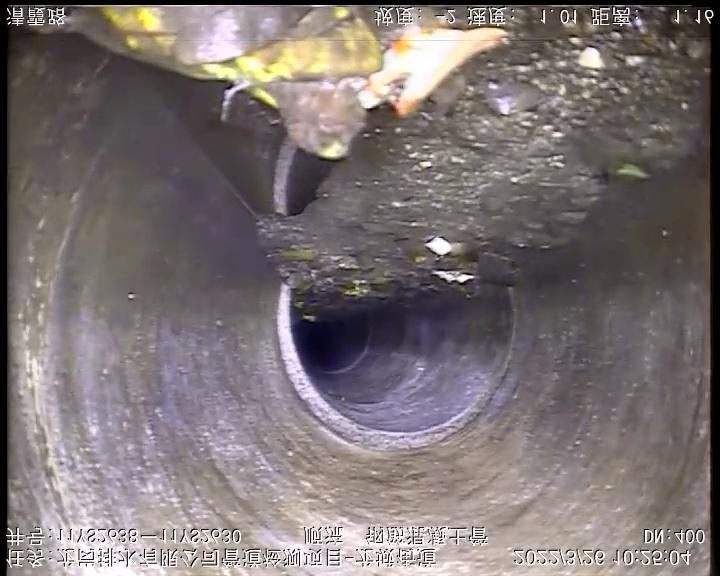CJ: (7, 7, 712, 308)
CKTJ: (277, 284, 517, 452)
